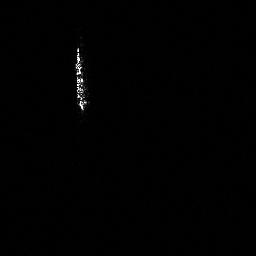ship: (70, 44, 93, 115)
